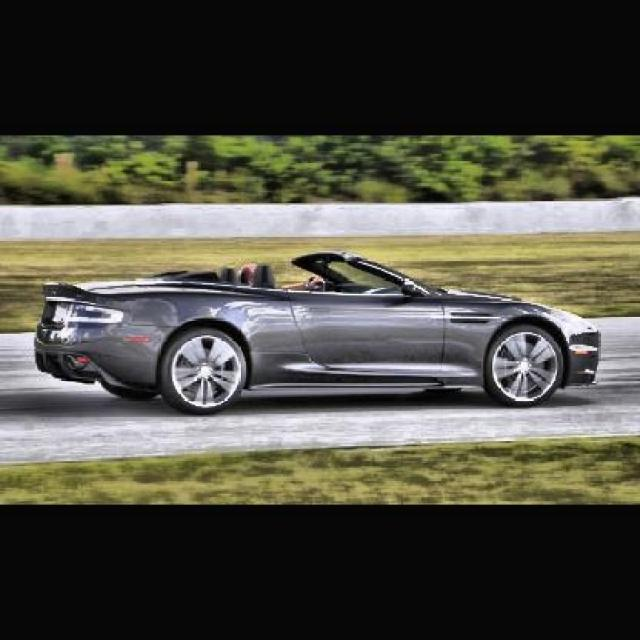black: (36, 253, 600, 409)
